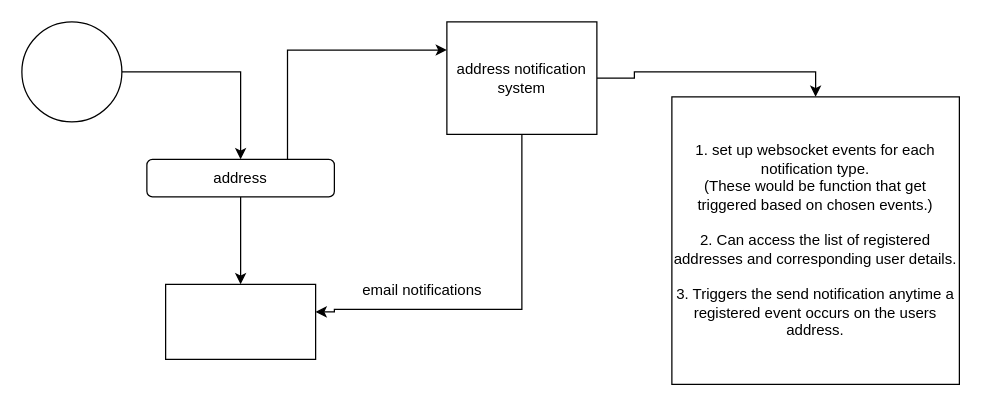
The diagram is 981 pixels wide and 406 high, and some of its shapes have lost their labels. The shapes that lost their labels are listed below. From the top down, each one's centre as x and y in pixels, then its label:
At point (71, 71): "transaction".
At point (240, 321): "users email/phone".
